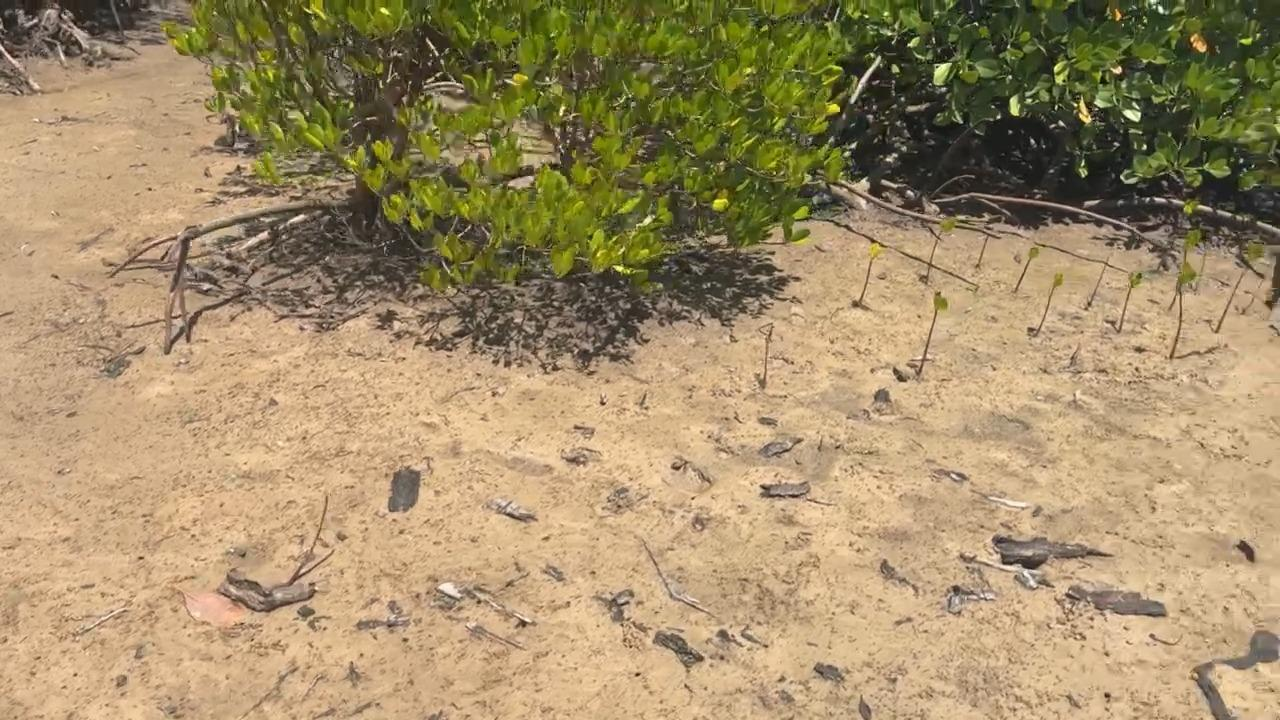Tree: (1216, 243, 1263, 334), (917, 291, 947, 374), (1170, 263, 1196, 358), (1171, 230, 1200, 308), (925, 217, 954, 284), (1036, 274, 1063, 331), (1119, 271, 1142, 333), (860, 242, 882, 301), (1014, 245, 1039, 293), (1088, 254, 1109, 308), (763, 323, 771, 380), (978, 236, 989, 264)
